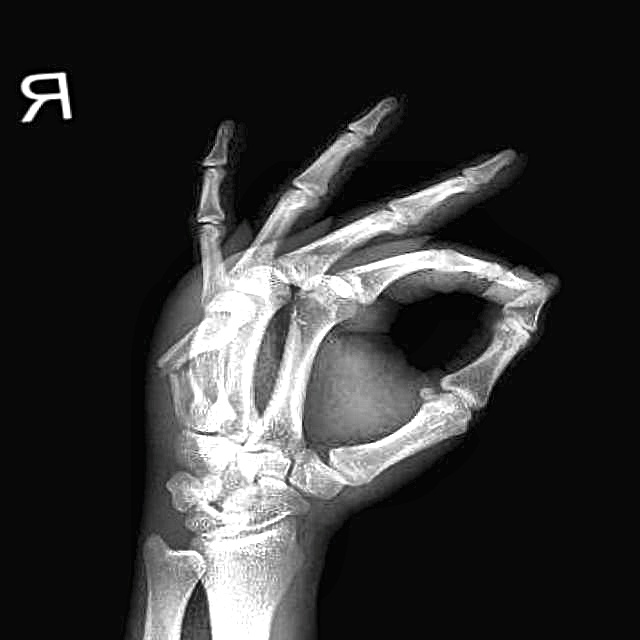Oblique: (149, 321, 243, 416)
